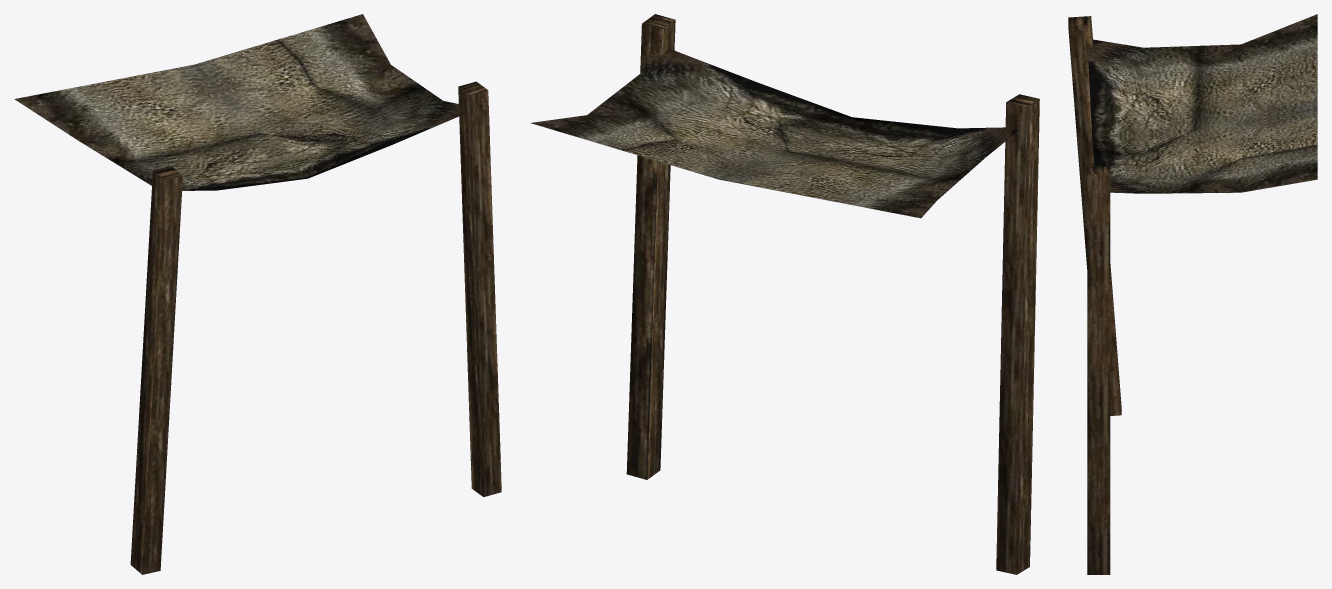
File: OC_DECOROOF_V2.glb
3 views of the same model, side by side, from view 1: azimuth 30°, elevation 25°; view 2: azimuth 150°, elevation 25°; view 3: azimuth 270°, elevation 25° (orthographic). The views are drawn at different scales.
Visible parts, largest first — view 1: Mesh; view 2: Mesh; view 3: Mesh.
Boxes of the visible parts, x1,y1,x2,y2 form: Mesh: (14, 14, 501, 574); Mesh: (531, 14, 1039, 574); Mesh: (1068, 14, 1317, 574).
Bounding box in the file's own units: 3.24 × 3.41 × 1.95.
Materials: 2 (2 with a texture image).
